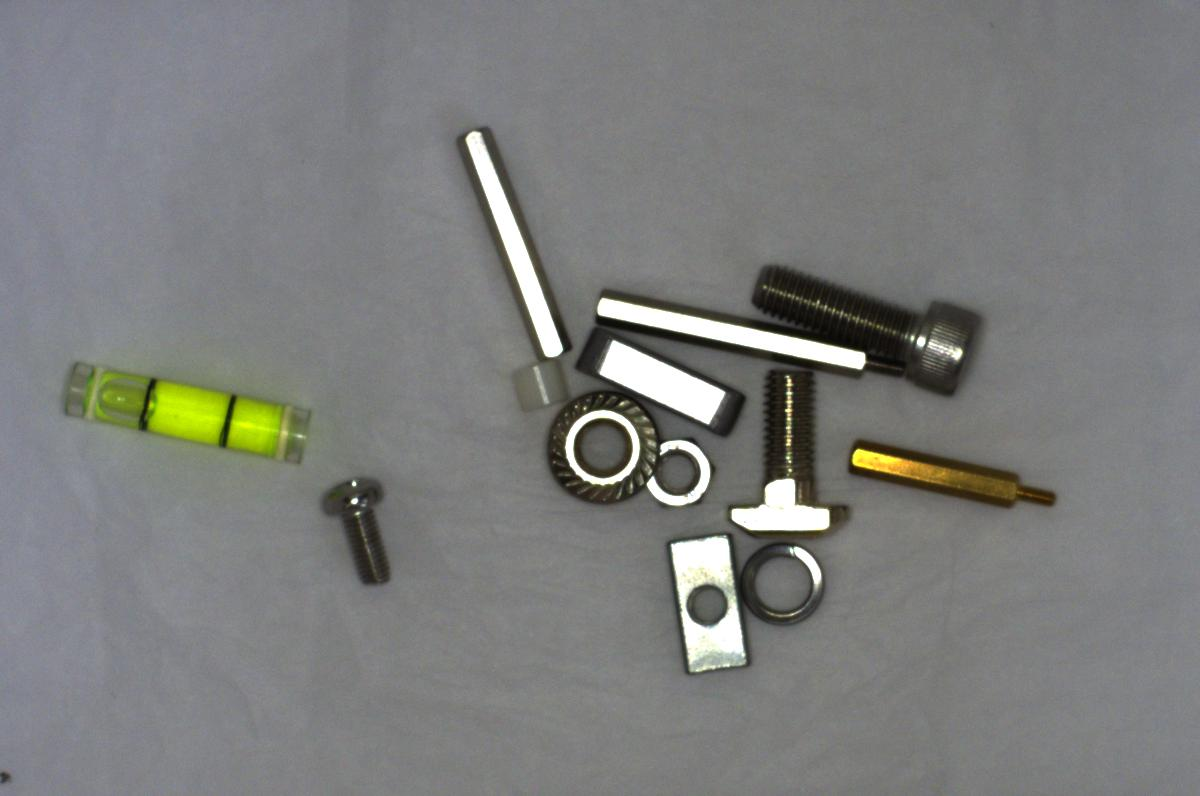Double hexagonal column: (452, 118, 570, 360)
Flange nut: (534, 387, 667, 508)
Hexagon nut: (629, 426, 715, 515)
Hexagon pillar: (835, 435, 1085, 518)
Hexagon screw: (744, 255, 996, 399)
Hexagonal steel column: (582, 290, 906, 381)
Horizontal bubble: (48, 355, 312, 469)
Keybar: (573, 331, 750, 433)
Plastic cushion pillar: (507, 354, 569, 413)
Rectangular nut: (666, 530, 756, 682)
Round head screw: (314, 456, 403, 589)
Spring washer: (735, 530, 829, 630)
T-shaped screw: (733, 360, 851, 548)
